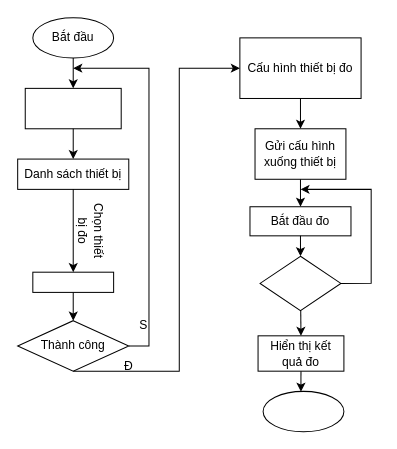
The diagram is 397 pixels wide and 449 high, and some of its shapes have lost their labels. Each missing label, with the box of its shape:
Kết nối: (32, 271, 114, 292)
Kết thúc: (262, 390, 344, 432)
Quét thiết bị BLE: (24, 87, 121, 129)
Đo xong: (259, 255, 341, 311)
